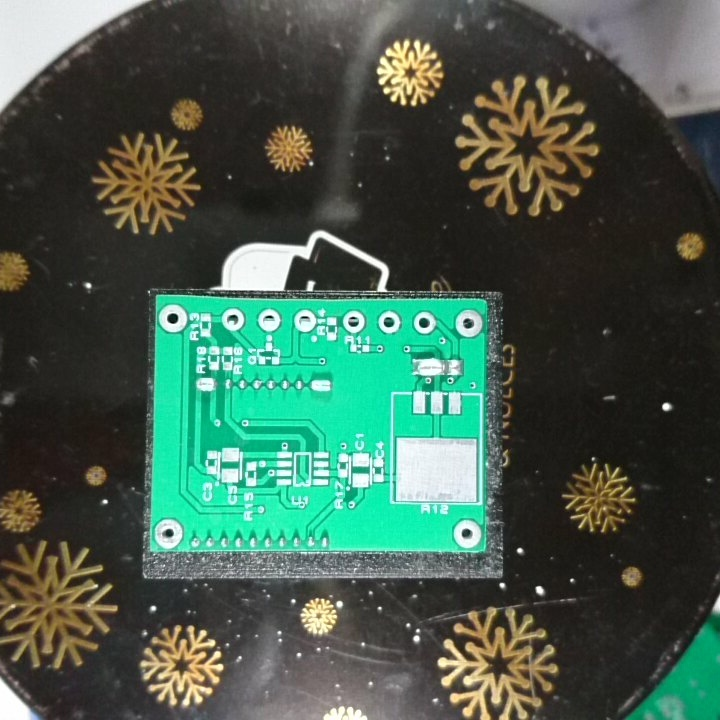F: (152, 516, 186, 549), (156, 303, 189, 336), (454, 308, 485, 340), (451, 517, 482, 549), (254, 306, 284, 333), (411, 309, 439, 336), (341, 308, 367, 335), (220, 306, 247, 332), (376, 309, 402, 335), (292, 309, 316, 334)
P: (411, 356, 445, 380), (308, 376, 337, 396), (193, 375, 217, 394)
